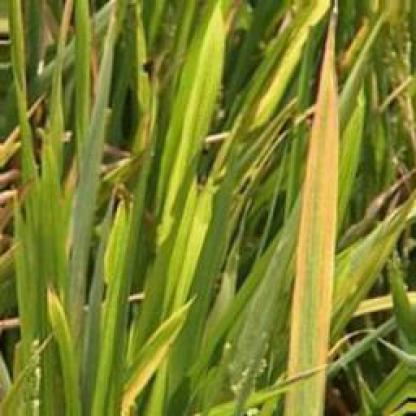Tungro: (277, 9, 354, 415), (135, 17, 234, 310), (110, 297, 198, 416)
